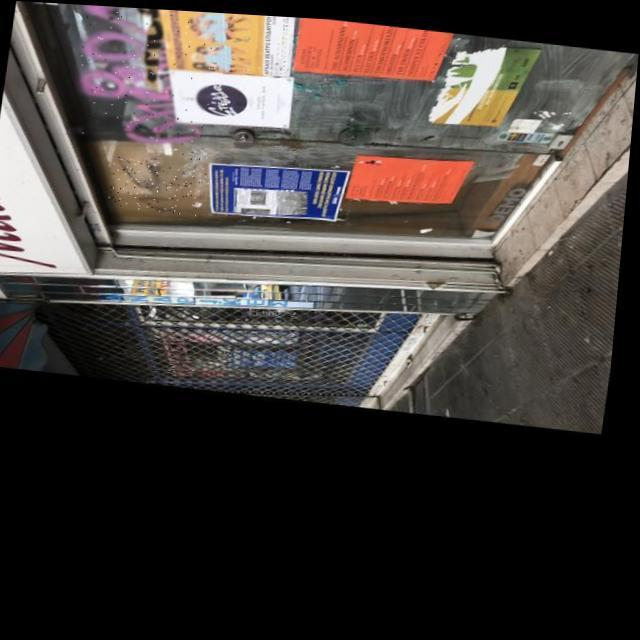-: (68, 3, 219, 148), (110, 154, 208, 214), (179, 144, 217, 187)
